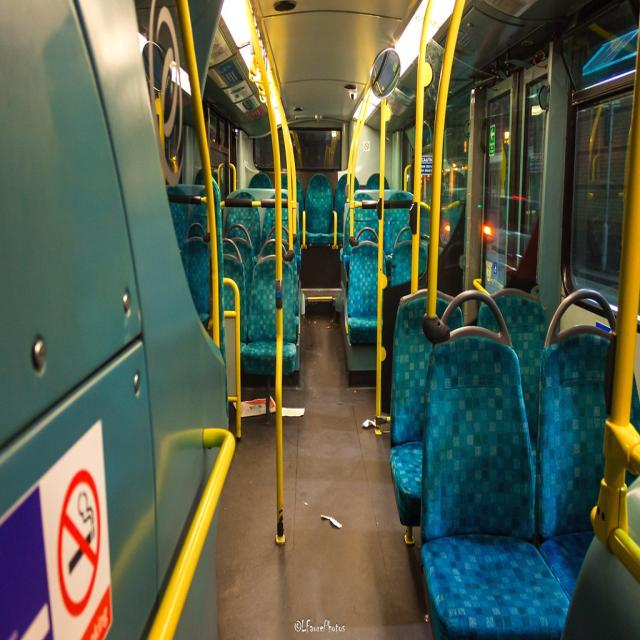empty-seat-frontal: (417, 287, 575, 639)
